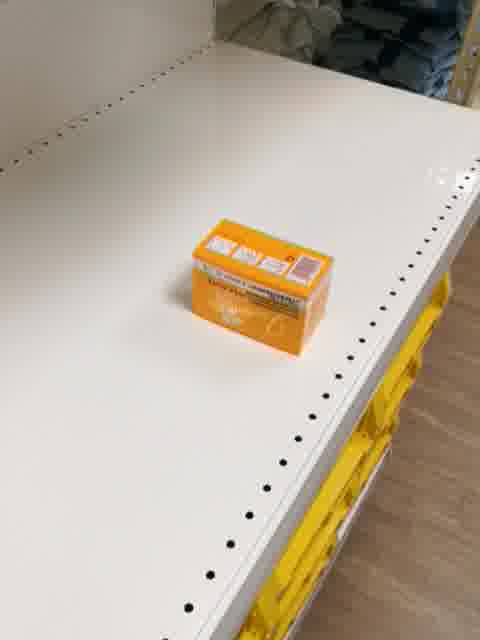jasminetea: (190, 213, 333, 360)
